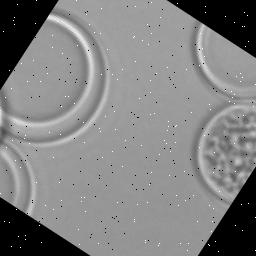picoshell: (0, 14, 107, 145), (196, 105, 256, 206), (191, 23, 256, 103), (0, 144, 36, 217)
